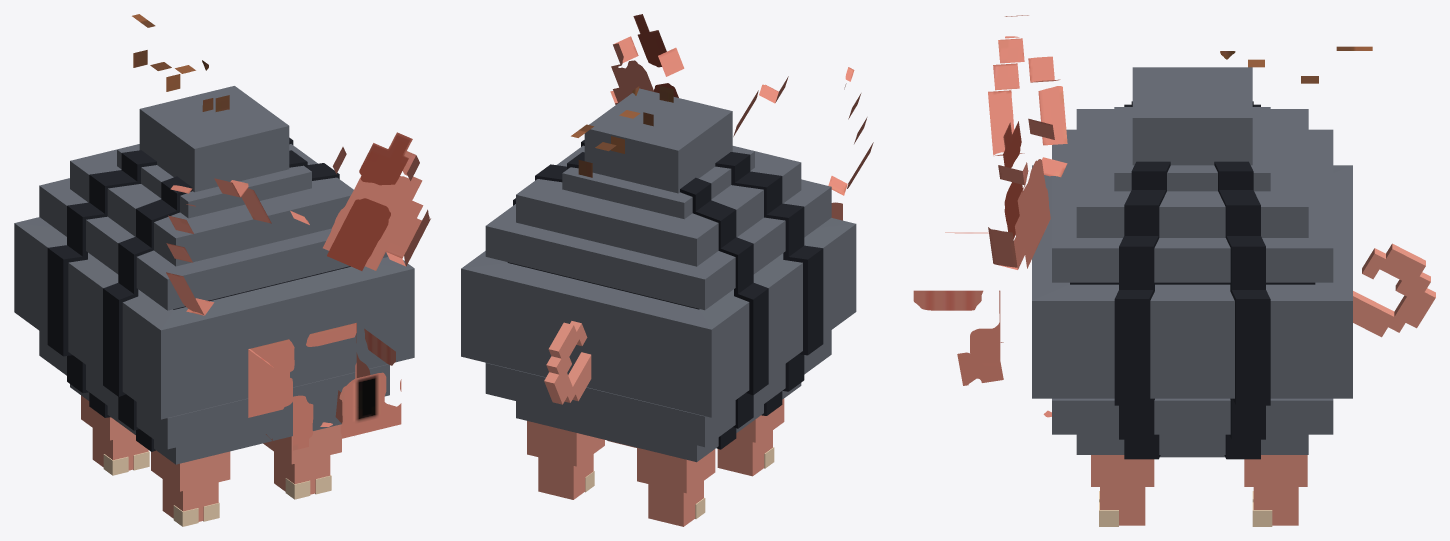
The model's file is sivinini.fbx.
The picture shows the model from 3 angles, left to right: view 1: azimuth 30°, elevation 25°; view 2: azimuth 150°, elevation 25°; view 3: azimuth 270°, elevation 25°; orthographic projection. The views are drawn at different scales.
Visible parts, largest first — view 1: svinini; view 2: svinini; view 3: svinini.
Part boxes in pixels (bbox=[...]): svinini: bbox=[14, 14, 430, 526]; svinini: bbox=[461, 14, 873, 526]; svinini: bbox=[913, 15, 1435, 526].
Size of the model in its own units: 403 by 586 by 645.
